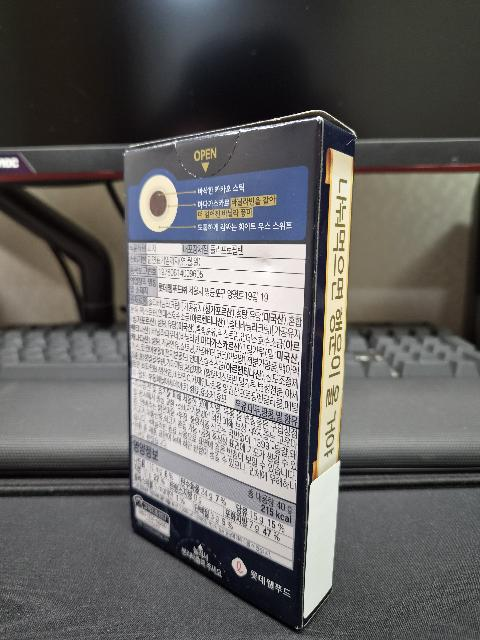pepero: (124, 109, 356, 631)
